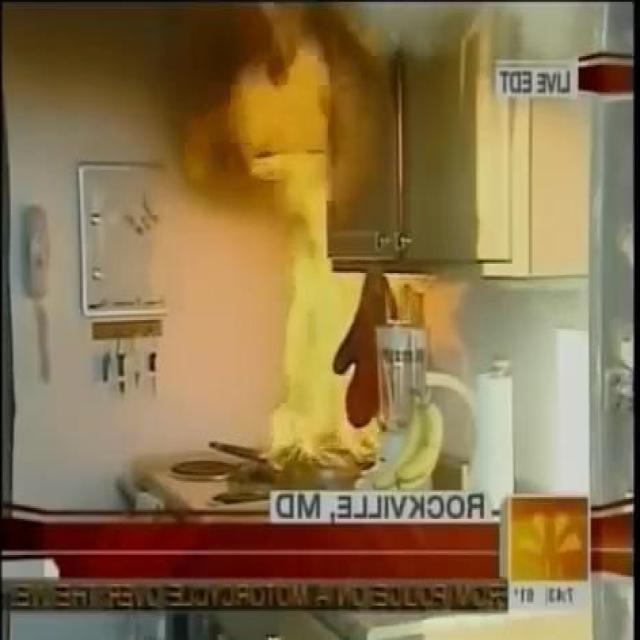fire: (483, 0, 632, 101), (326, 0, 466, 62)
smoke: (234, 38, 382, 470)
